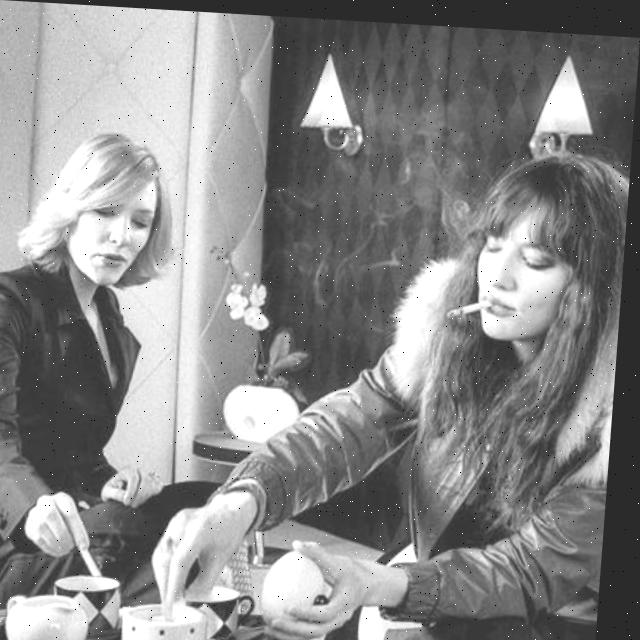cigarette: (84, 545, 115, 579), (454, 290, 493, 312)
